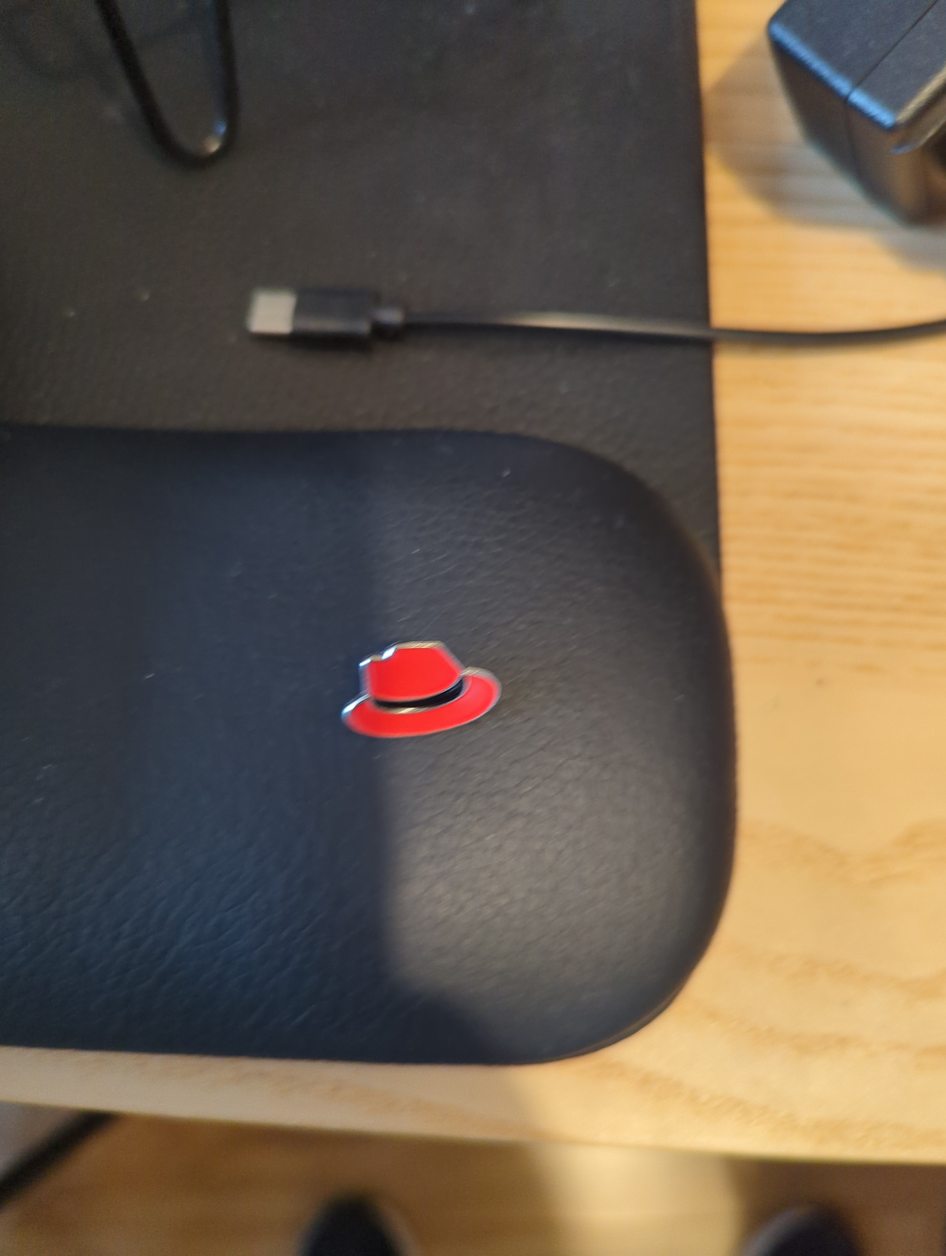Red-Hat: (284, 566, 585, 844)
